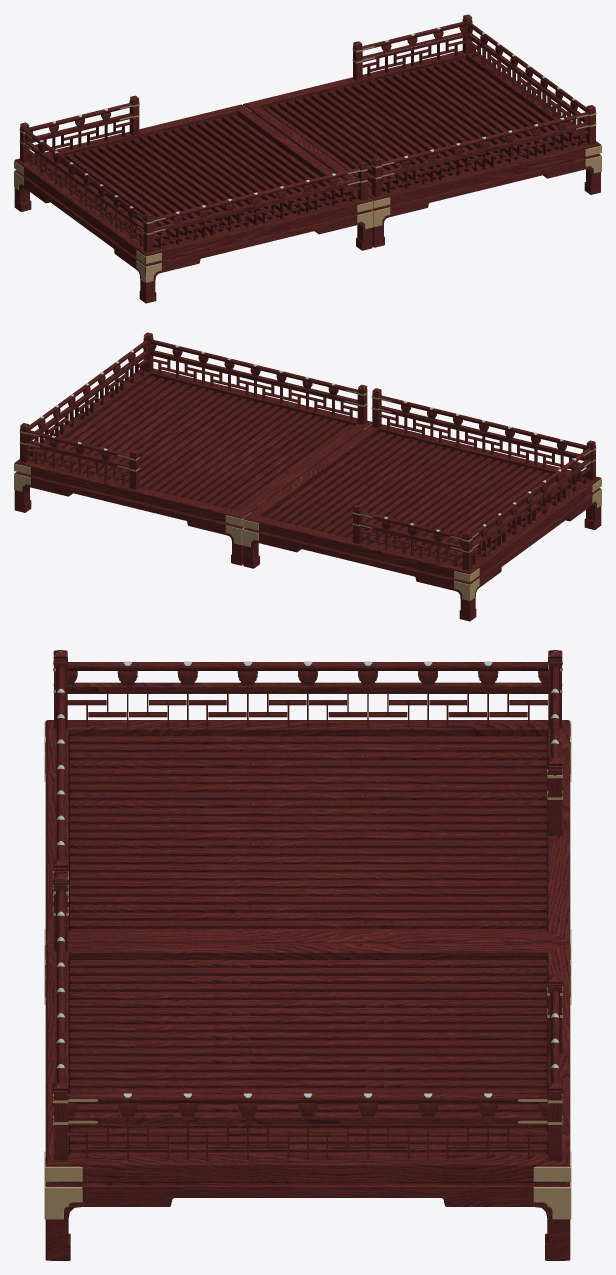
Rendered from gt_pyeong.glb.
The picture shows the model from 3 angles, top to bottom: view 1: azimuth 30°, elevation 25°; view 2: azimuth 150°, elevation 25°; view 3: azimuth 270°, elevation 25°; orthographic projection. The views are drawn at different scales.
Visible parts, largest first — view 1: SM_GTJ_Pyeongsang_M_GTJ_Pyeongsang_0.001, SM_GTJ_Pyeongsang, SM_GTJ_Pyeongsang_M_GTJ_Pyeongsang_0.002; view 2: SM_GTJ_Pyeongsang_M_GTJ_Pyeongsang_0.001, SM_GTJ_Pyeongsang, SM_GTJ_Pyeongsang_M_GTJ_Pyeongsang_0.002; view 3: SM_GTJ_Pyeongsang_M_GTJ_Pyeongsang_0.001, SM_GTJ_Pyeongsang.
Boxes of the visible parts, x1,y1,x2,y2 form: SM_GTJ_Pyeongsang_M_GTJ_Pyeongsang_0.001: (14, 14, 601, 263); SM_GTJ_Pyeongsang: (15, 44, 588, 303); SM_GTJ_Pyeongsang_M_GTJ_Pyeongsang_0.002: (14, 141, 373, 303); SM_GTJ_Pyeongsang_M_GTJ_Pyeongsang_0.001: (14, 332, 601, 600); SM_GTJ_Pyeongsang: (53, 339, 600, 620); SM_GTJ_Pyeongsang_M_GTJ_Pyeongsang_0.002: (243, 459, 601, 621); SM_GTJ_Pyeongsang_M_GTJ_Pyeongsang_0.001: (44, 720, 571, 1260); SM_GTJ_Pyeongsang: (45, 650, 570, 1089).
Size of the model in its own units: 2.93 by 0.528 by 1.47.
Materials: 1 (1 with a texture image).
